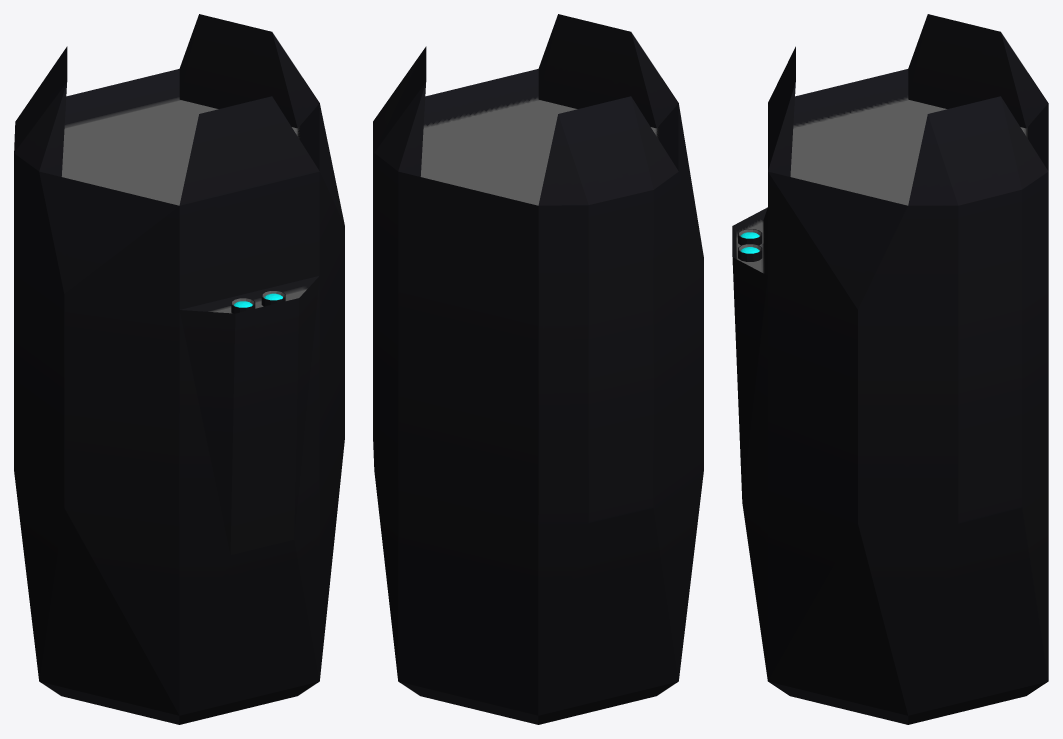
Rendered from Turret MK4.glb.
The picture shows the model from 3 angles, left to right: view 1: azimuth 30°, elevation 25°; view 2: azimuth 150°, elevation 25°; view 3: azimuth 270°, elevation 25°; orthographic projection.
Parts seen in each view (by area): view 1: MK_4_Base; view 2: MK_4_Base; view 3: MK_4_Base.
Boxes of the visible parts, x1=… form: MK_4_Base: x1=14, y1=14, x2=344, y2=724; MK_4_Base: x1=373, y1=14, x2=703, y2=724; MK_4_Base: x1=732, y1=14, x2=1048, y2=724.
Bounding box in the file's own units: 0.3666 × 0.7531 × 0.3575.
1 material, 1 textured.
